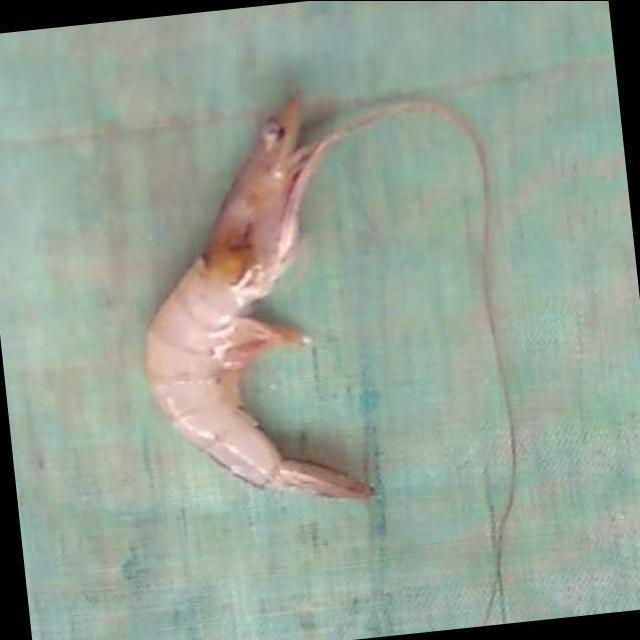shrimp: (145, 94, 372, 500)
